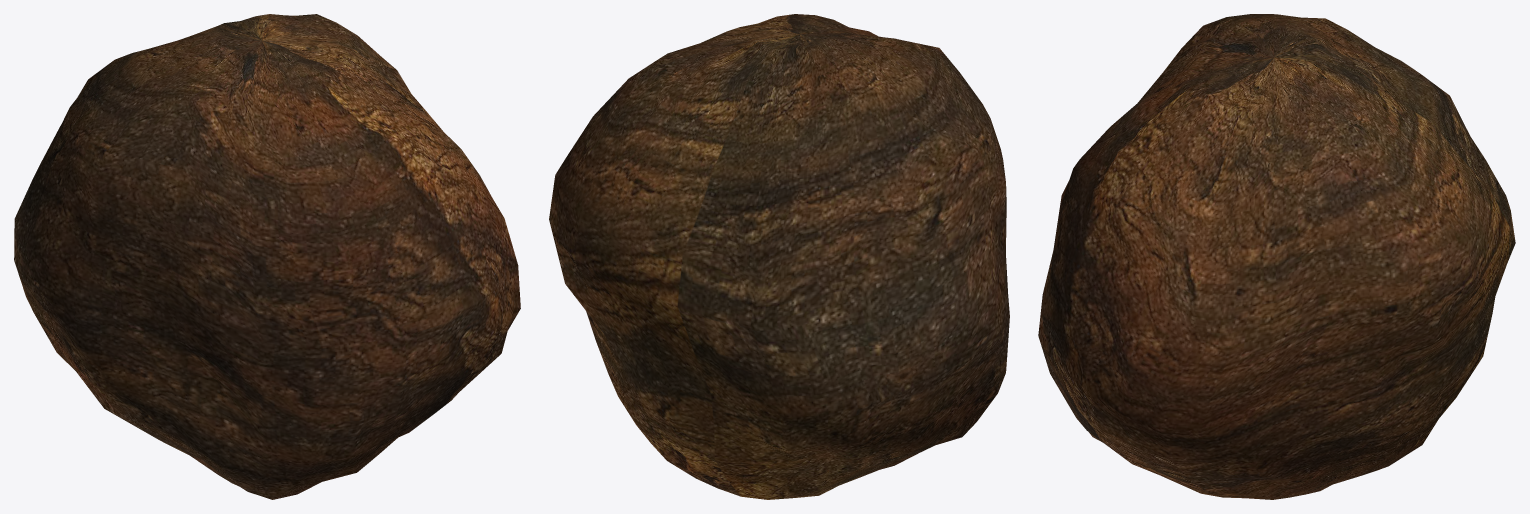
File: Roll_Stone.fbx
The picture shows the model from 3 angles, left to right: view 1: azimuth 30°, elevation 25°; view 2: azimuth 150°, elevation 25°; view 3: azimuth 270°, elevation 25°; orthographic projection. The views are drawn at different scales.
Parts seen in each view (by area): view 1: Sphere001; view 2: Sphere001; view 3: Sphere001.
Part boxes in pixels (bbox=[...]): Sphere001: bbox=[14, 14, 520, 499]; Sphere001: bbox=[549, 14, 1009, 499]; Sphere001: bbox=[1038, 14, 1515, 499].
Bounding box in the file's own units: 85.9 × 85.9 × 86.5.
